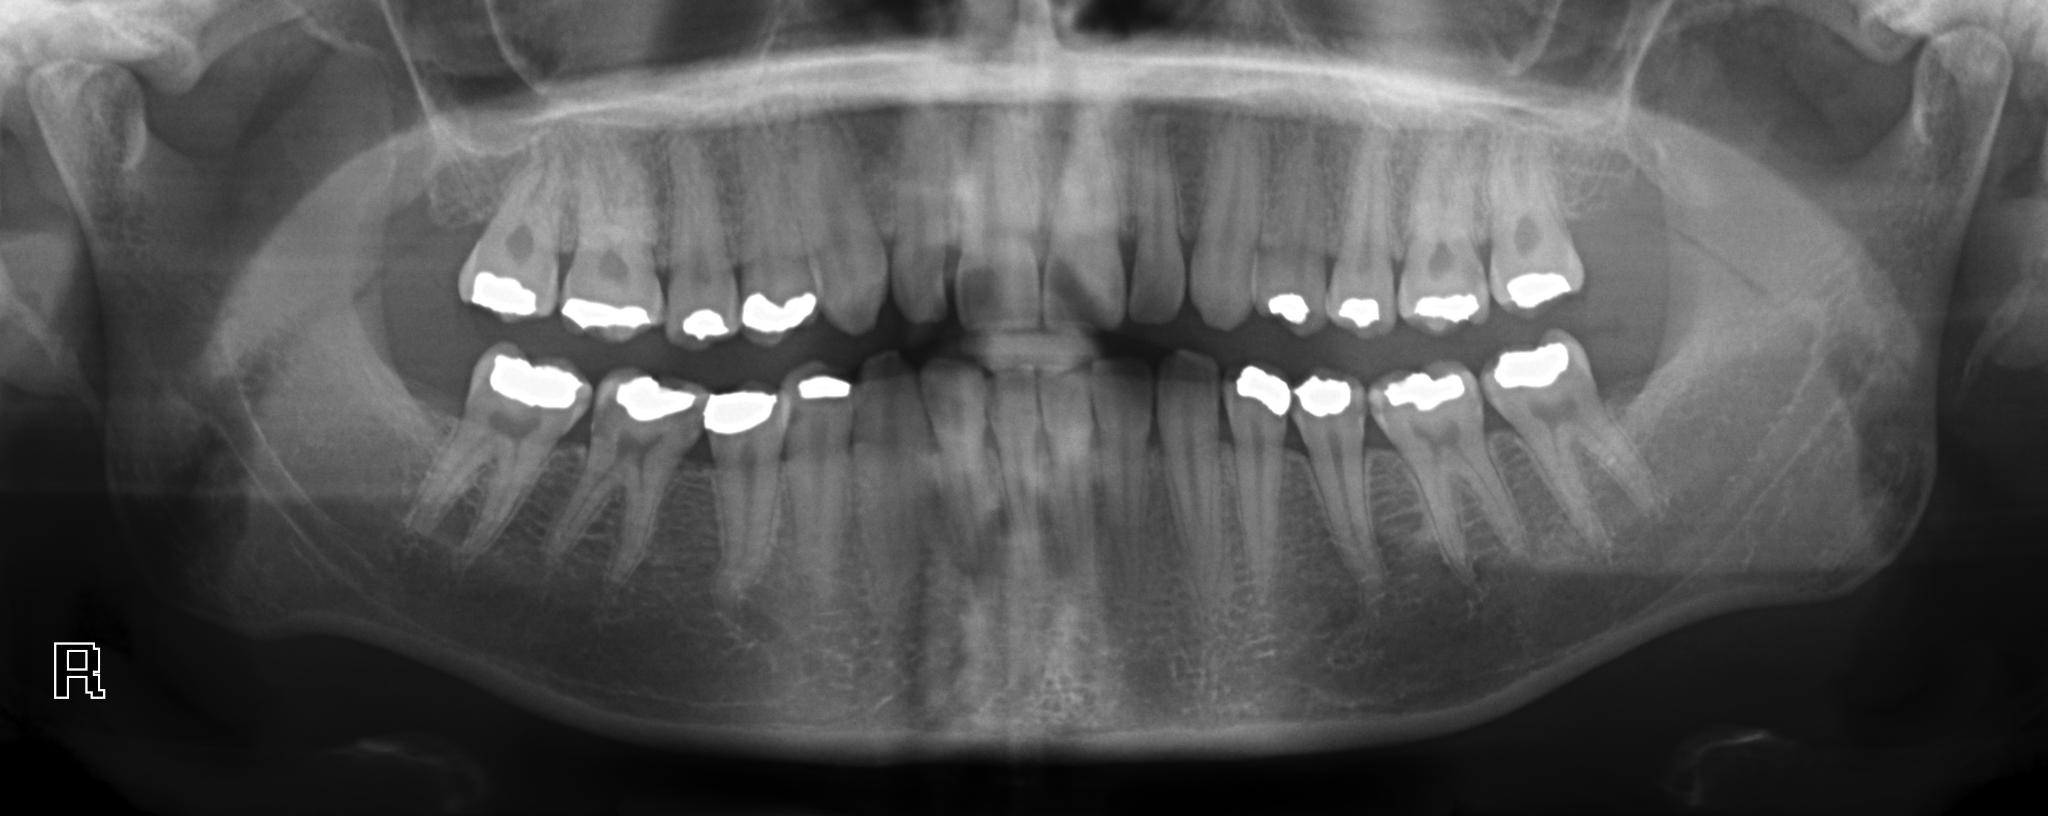Fillings: (1489, 333, 1652, 539), (428, 349, 586, 537), (1369, 360, 1502, 569), (456, 150, 568, 322), (1484, 149, 1587, 316), (1289, 368, 1371, 577), (705, 380, 788, 581), (1223, 362, 1293, 557), (559, 208, 662, 339), (1396, 189, 1488, 337), (1254, 170, 1326, 337), (1326, 176, 1394, 336), (737, 206, 816, 339), (662, 206, 738, 346)
